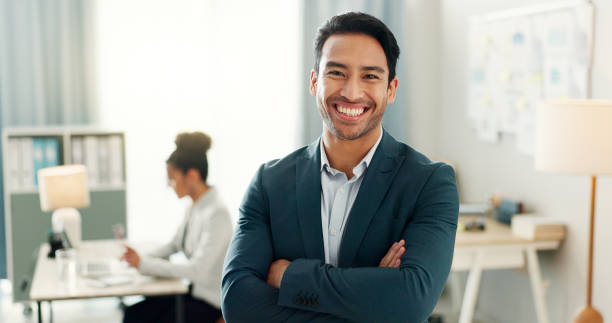Male: (222, 5, 464, 319)
